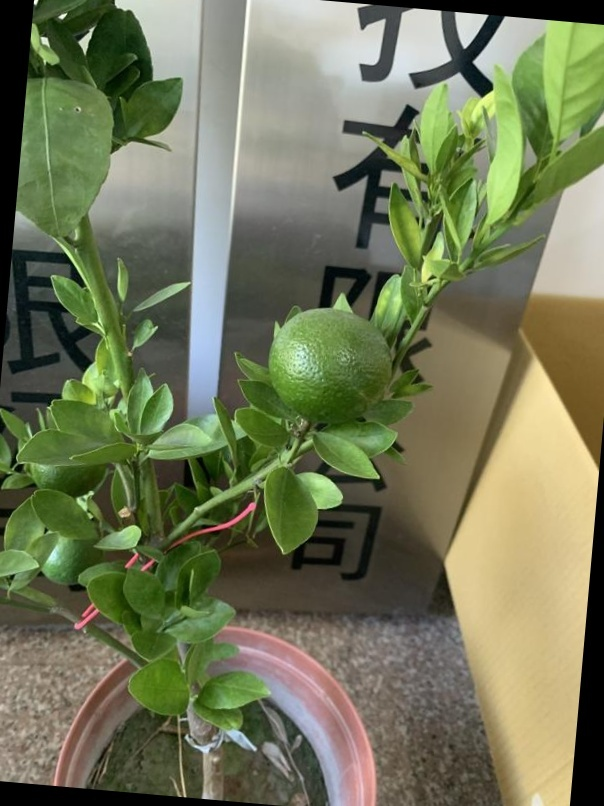Tangerine: (270, 304, 396, 430)
